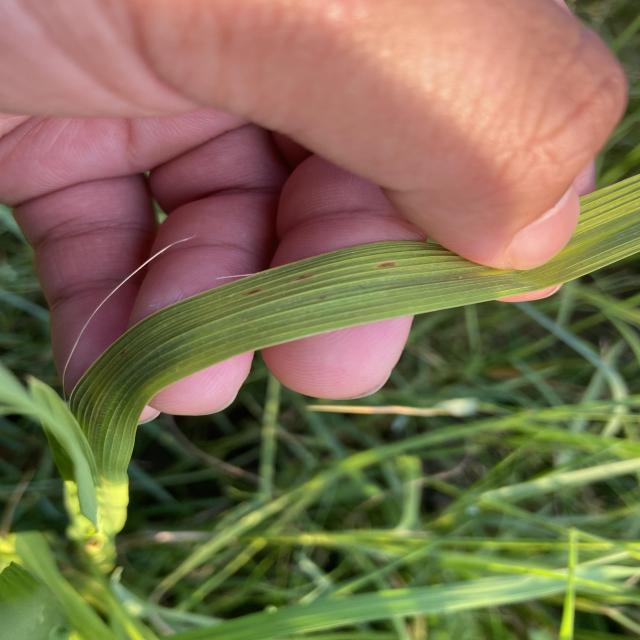Dom nau: (295, 274, 314, 281), (377, 262, 395, 268), (247, 288, 262, 295)
